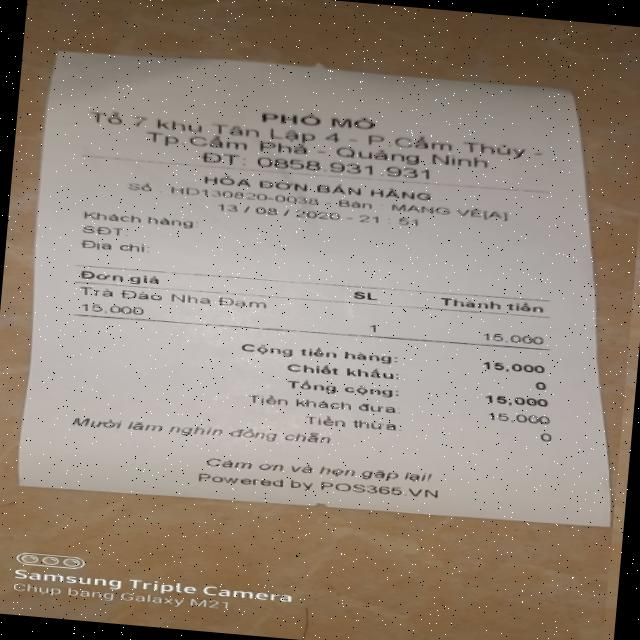Date: (215, 198, 348, 223)
Store_Name: (252, 105, 386, 135)
amount_number: (484, 391, 554, 408)
label_total: (287, 376, 398, 400)
